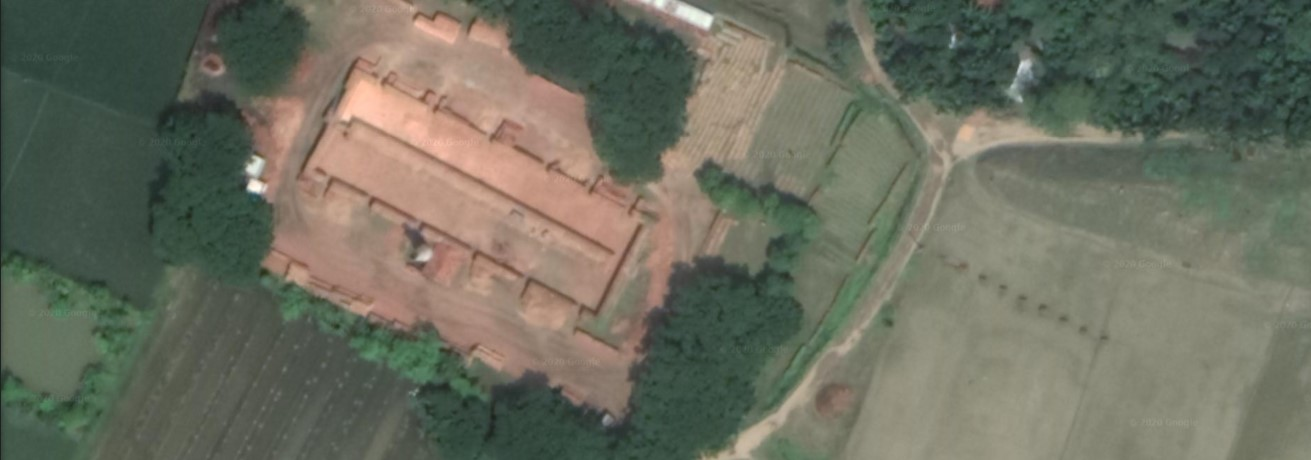kiln: (289, 103, 631, 310)
